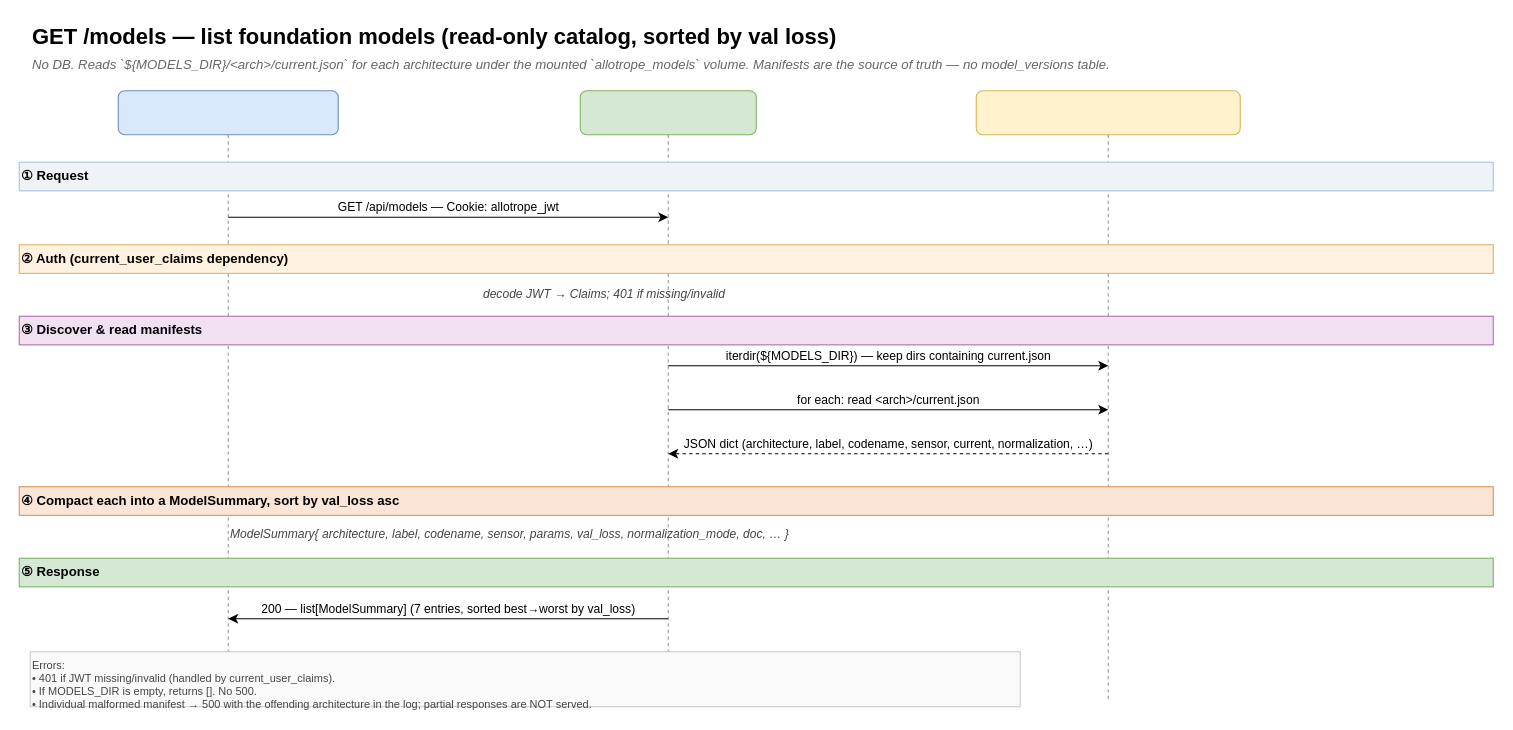
This 1513x730 diagram has some shape labels left out. Here are the shapes that lost their labels. From the top down, the centre of each, then its label:
(x=227, y=112): Browser (ModelsPage)
(x=667, y=112): api (FastAPI)
(x=1107, y=112): filesystem (allotrope_models, ro)
